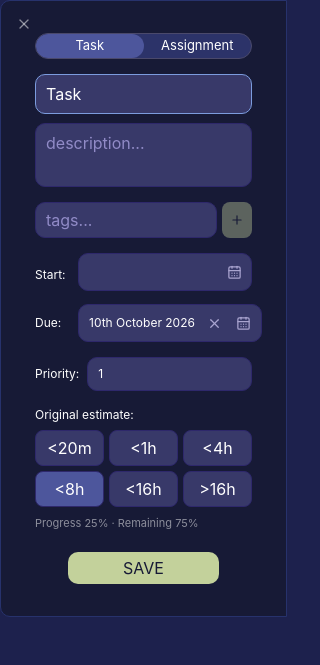
Test: changing historical due date to another past date blocks save and restoring it clears the error
Type "2026-10-11" into the date field named "Due:".
click(170, 323); type("2026-10-11")  # box x1=78 y1=304 x2=262 y2=342
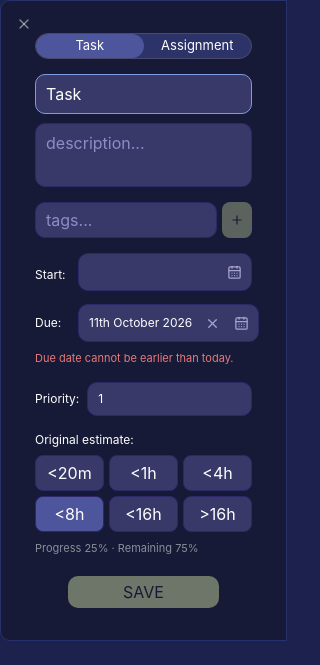
Expected: the button "SAVE" is disabled, x1=68 y1=576 x2=219 y2=608
Expected: the message "Due date cannot be earlier than today." is shown, x1=35 y1=350 x2=252 y2=366
Submit the form named "SAVE", box x1=35 y1=33 x2=252 y2=608
Type "2026-10-10" into the date field named "Due:".
click(169, 323); type("2026-10-10")  # box x1=78 y1=304 x2=259 y2=342
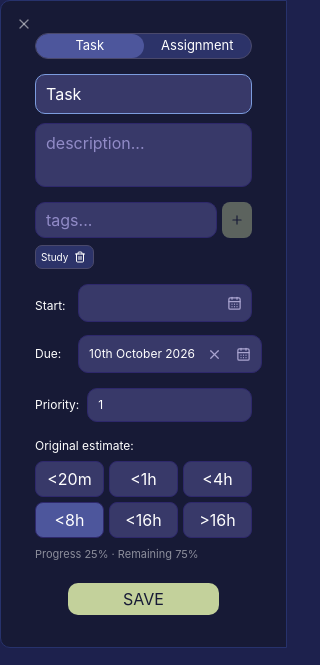
Expected: the button "SAVE" is enabled, x1=68 y1=582 x2=219 y2=614
Expected: the message "Due date cannot be earlier than today." is gone
